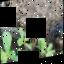Purslane: (0, 18, 64, 64)
